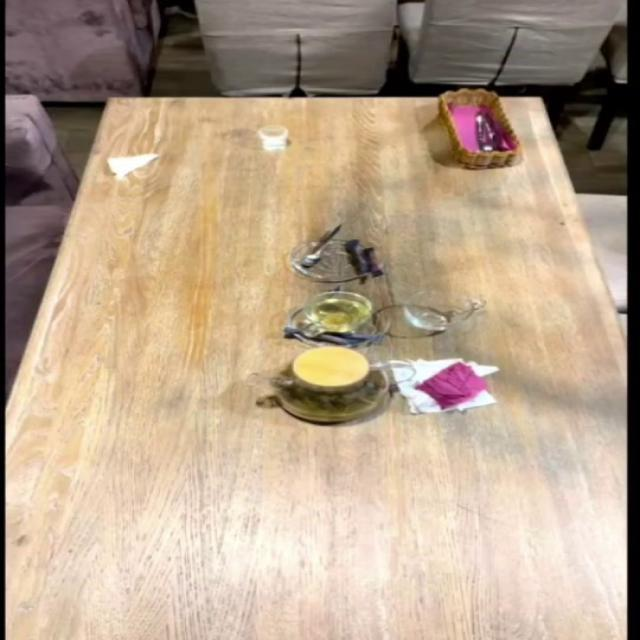tea: (268, 346, 390, 424)
